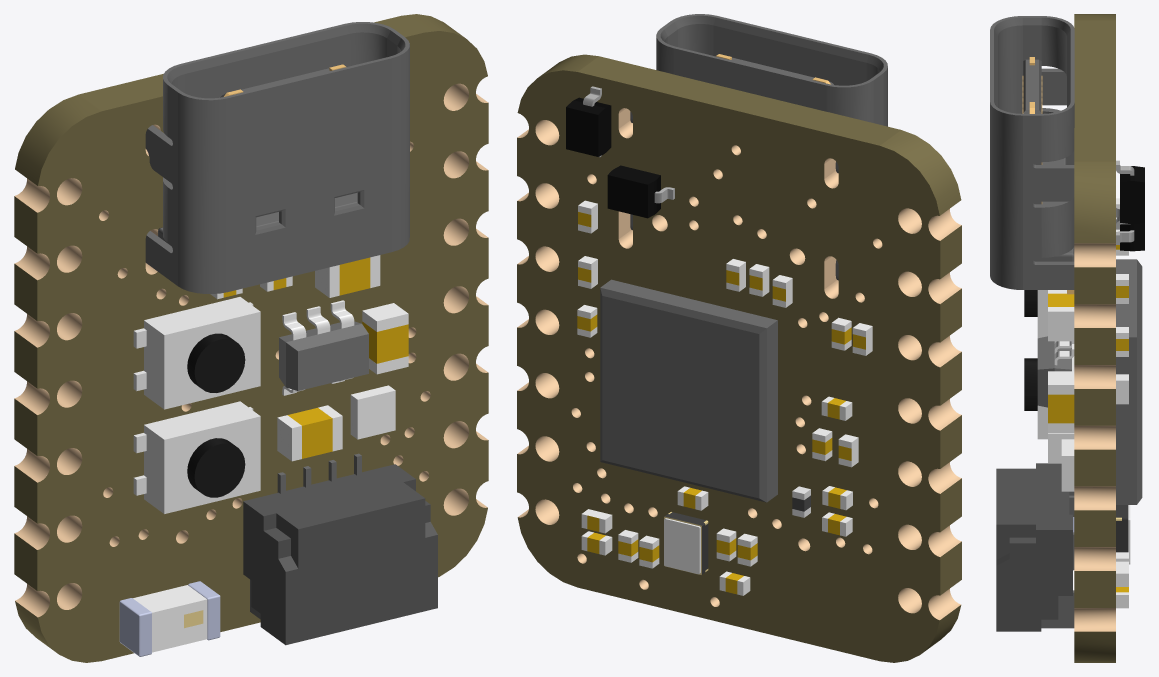
The model's file is adafruit-5426-qtpy-esp32s3.glb.
3 views of the same model, side by side, from view 1: azimuth 30°, elevation 25°; view 2: azimuth 150°, elevation 25°; view 3: azimuth 270°, elevation 25° (orthographic). The views are drawn at different scales.
Visible parts, largest first — view 1: body_13, body_2, body_10, body_7, body_5, body, body_17, body_15, body_4, body_6; view 2: body_13, body_2, body_5, body, body_4, body_12; view 3: body_2, body_13, body_10, body_5, body, body_12, body_4, body_15, body_17, body_7, body_16, body_8 (+1 smaller).
Boxes of the visible parts, box(x1,y1,x2,y2) form: body_13: box(14, 14, 488, 662); body_2: box(145, 22, 409, 619); body_10: box(243, 464, 437, 645); body_7: box(133, 297, 260, 513); body_5: box(14, 83, 488, 617); body: box(133, 255, 408, 652); body_17: box(187, 333, 245, 497); body_15: box(279, 321, 368, 390); body_4: box(223, 257, 408, 458); body_6: box(119, 581, 220, 656); body_13: box(517, 54, 961, 662); body_2: box(600, 14, 887, 502); body_5: box(517, 108, 961, 620); body: box(577, 200, 872, 595); body_4: box(577, 212, 865, 594); body_12: box(566, 97, 660, 218); body_2: box(990, 16, 1142, 628); body_13: box(1074, 14, 1115, 662); body_10: box(996, 463, 1072, 631); body_5: box(1074, 243, 1115, 631); body: box(1048, 198, 1130, 608); body_12: box(1120, 166, 1144, 251); body_4: box(1048, 245, 1128, 592); body_15: box(1037, 336, 1071, 407); body_17: box(1024, 290, 1037, 410); body_7: box(1037, 290, 1074, 439); body_16: box(1116, 505, 1128, 552); body_8: box(1116, 160, 1134, 244).
Size of the model in its own units: 17.78 by 21.76 by 5.87.
